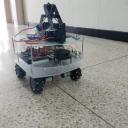cart: (11, 36, 85, 94)
